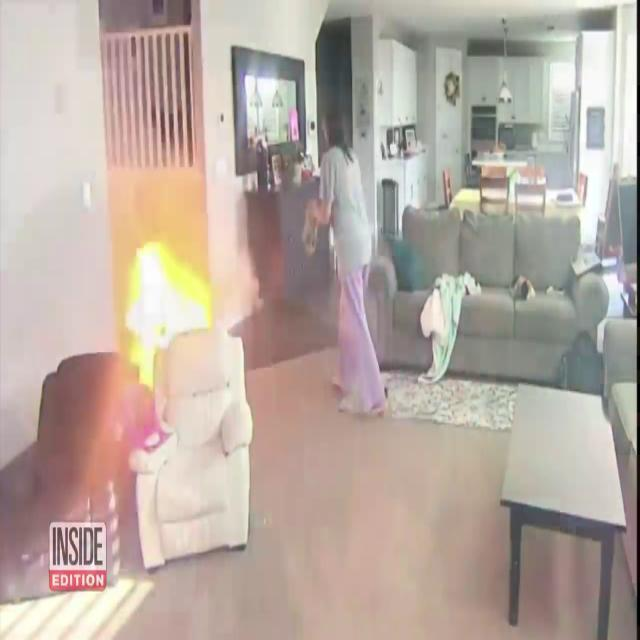Fire: (119, 224, 215, 372)
